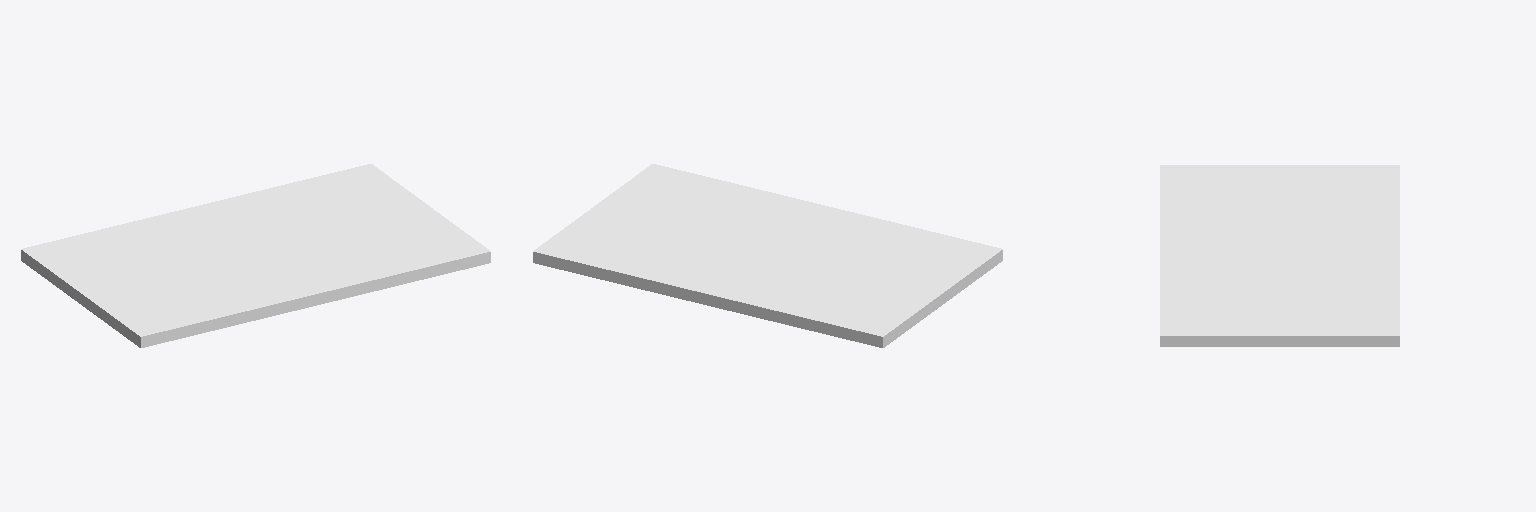
The model's file is Shop_Sign2.obj.
The picture shows the model from 3 angles: view 1: azimuth 30°, elevation 25°; view 2: azimuth 150°, elevation 25°; view 3: azimuth 270°, elevation 25°; orthographic projection.
Parts seen in each view (by area): view 1: object 1; view 2: object 1; view 3: object 1.
Boxes of the visible parts, <box> form: object 1: <box>21,164,490,347</box>; object 1: <box>533,164,1002,347</box>; object 1: <box>1160,165,1399,346</box>.
Size of the model in its own units: 3.2 by 0.1 by 1.9.